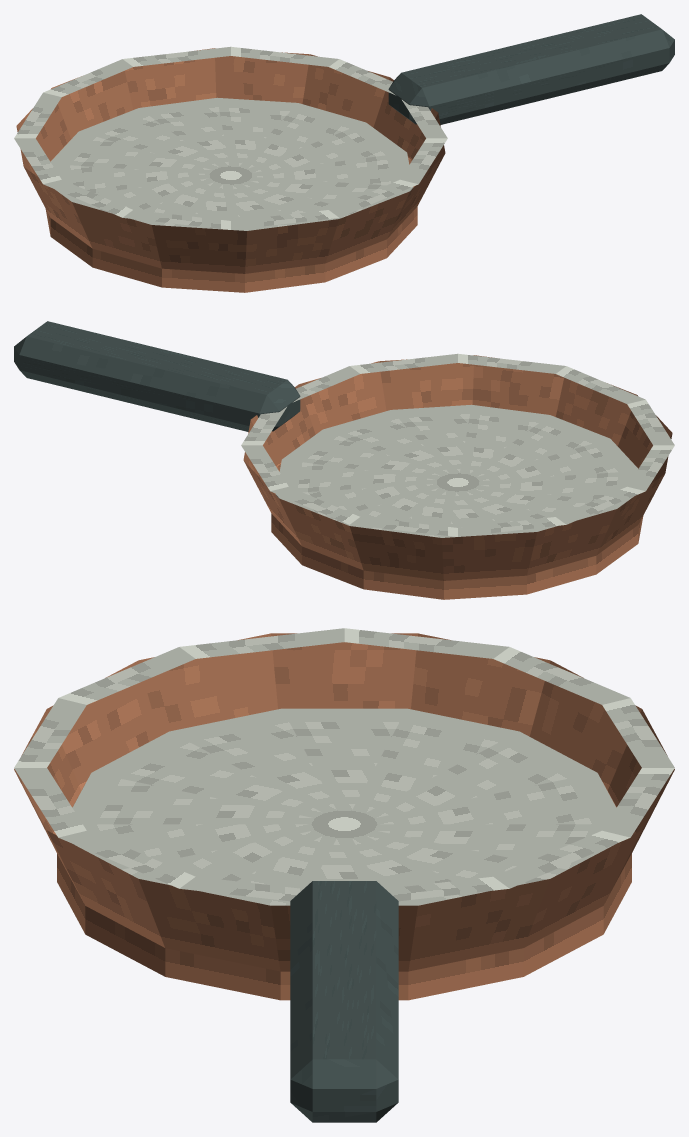
File: copper_pan.glb
3 renders of one model, top to bottom at view 1: azimuth 30°, elevation 25°; view 2: azimuth 150°, elevation 25°; view 3: azimuth 270°, elevation 25°, orthographic. The views are drawn at different scales.
Visible parts, largest first — view 1: block_tin-lined interior, block_vessel wall, block_handle, block_pressed base, block_tin rim 10, block_tin rim 9, block_tin rim 4, block_tin rim 3, block_tin rim 2, block_tin rim 5, block_tin rim 8, block_tin rim 1 (+4 smaller); view 2: block_tin-lined interior, block_vessel wall, block_handle, block_pressed base, block_tin rim 1, block_tin rim 2, block_tin rim 7, block_tin rim 8, block_tin rim 6, block_tin rim 9, block_tin rim 3, block_tin rim 4 (+4 smaller); view 3: block_tin-lined interior, block_vessel wall, block_handle, block_pressed base, block_tin rim 5, block_tin rim 6, block_tin rim 4, block_tin rim 7, block_tin rim 1, block_tin rim 10, block_tin rim 3, block_tin rim 8 (+4 smaller).
Part boxes in pixels (x1,y1,x2,y2): block_tin-lined interior: (51, 97, 413, 230); block_vessel wall: (16, 48, 445, 273); block_handle: (388, 14, 674, 124); block_pressed base: (45, 157, 417, 292); block_tin rim 10: (231, 46, 338, 66); block_tin rim 9: (123, 46, 230, 66); block_tin rim 4: (123, 210, 230, 229); block_tin rim 3: (231, 210, 338, 229); block_tin rim 2: (329, 179, 418, 217); block_tin rim 5: (43, 179, 132, 217); block_tin rim 8: (43, 59, 132, 96); block_tin rim 1: (400, 138, 447, 184); block_tin-lined interior: (275, 404, 637, 537); block_vessel wall: (243, 355, 672, 580); block_handle: (14, 321, 300, 431); block_pressed base: (271, 464, 643, 599); block_tin rim 1: (350, 353, 457, 373); block_tin rim 2: (458, 353, 565, 373); block_tin rim 7: (458, 517, 565, 536); block_tin rim 8: (350, 517, 457, 536); block_tin rim 6: (556, 486, 645, 524); block_tin rim 9: (270, 486, 359, 524); block_tin rim 3: (556, 366, 645, 403); block_tin rim 4: (627, 399, 674, 445); block_tin-lined interior: (72, 708, 616, 905); block_vessel wall: (14, 633, 674, 971); block_handle: (290, 881, 398, 1122); block_pressed base: (57, 783, 631, 1000); block_tin rim 5: (180, 628, 344, 658); block_tin rim 6: (344, 628, 508, 658); block_tin rim 4: (59, 647, 195, 704); block_tin rim 7: (493, 647, 629, 704); block_tin rim 1: (59, 830, 195, 888); block_tin rim 10: (493, 830, 629, 888); block_tin rim 3: (14, 698, 86, 767); block_tin rim 8: (602, 698, 674, 767).
Bounding box in the file's own units: 0.35 × 0.0478 × 0.2116.
Materials: 2 (2 with a texture image).
